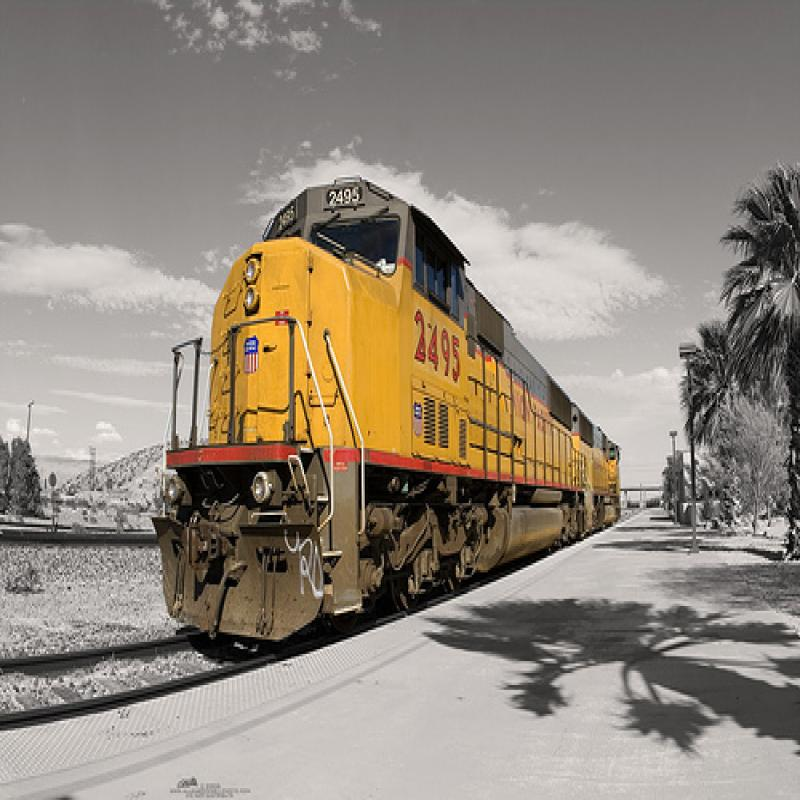train: (147, 173, 620, 643)
